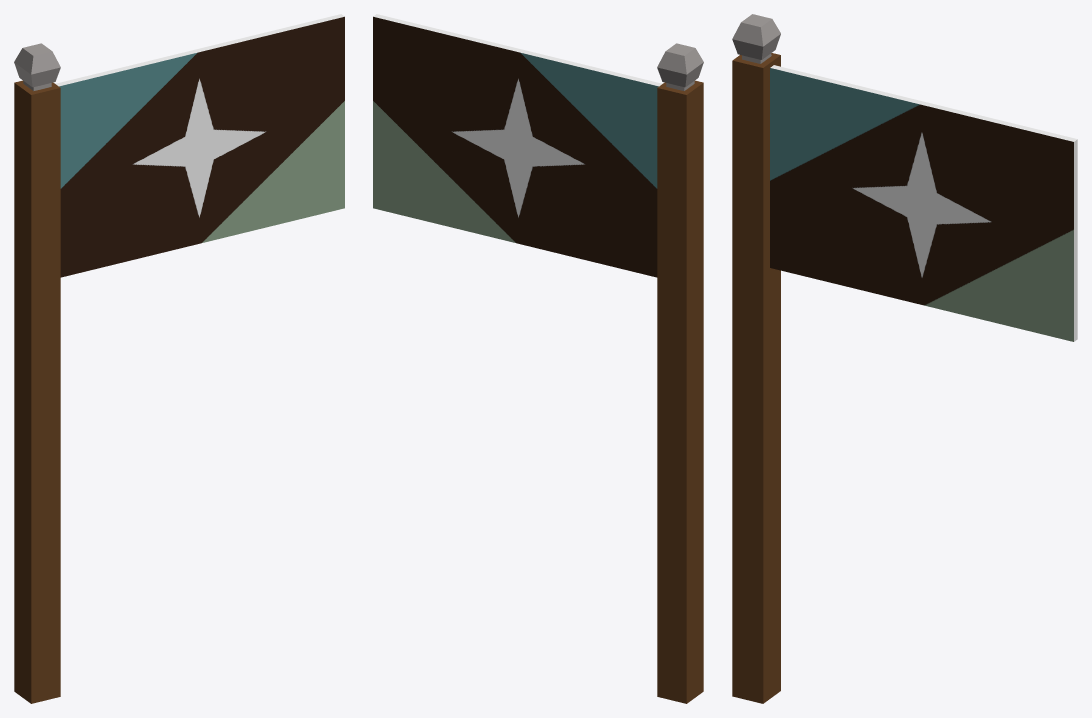
The model's file is flag.glb.
3 renders of one model, left to right at view 1: azimuth 30°, elevation 25°; view 2: azimuth 150°, elevation 25°; view 3: azimuth 330°, elevation 25°, orthographic. The views are drawn at different scales.
Visible parts, largest first — view 1: Cube; view 2: Cube; view 3: Cube.
Boxes of the visible parts, x1=… form: Cube: x1=14, y1=14, x2=344, y2=703; Cube: x1=373, y1=14, x2=703, y2=703; Cube: x1=732, y1=14, x2=1077, y2=703.
Size of the model in its own units: 1.65 by 3.18 by 0.1534.
Materials: 4 (1 with a texture image).
